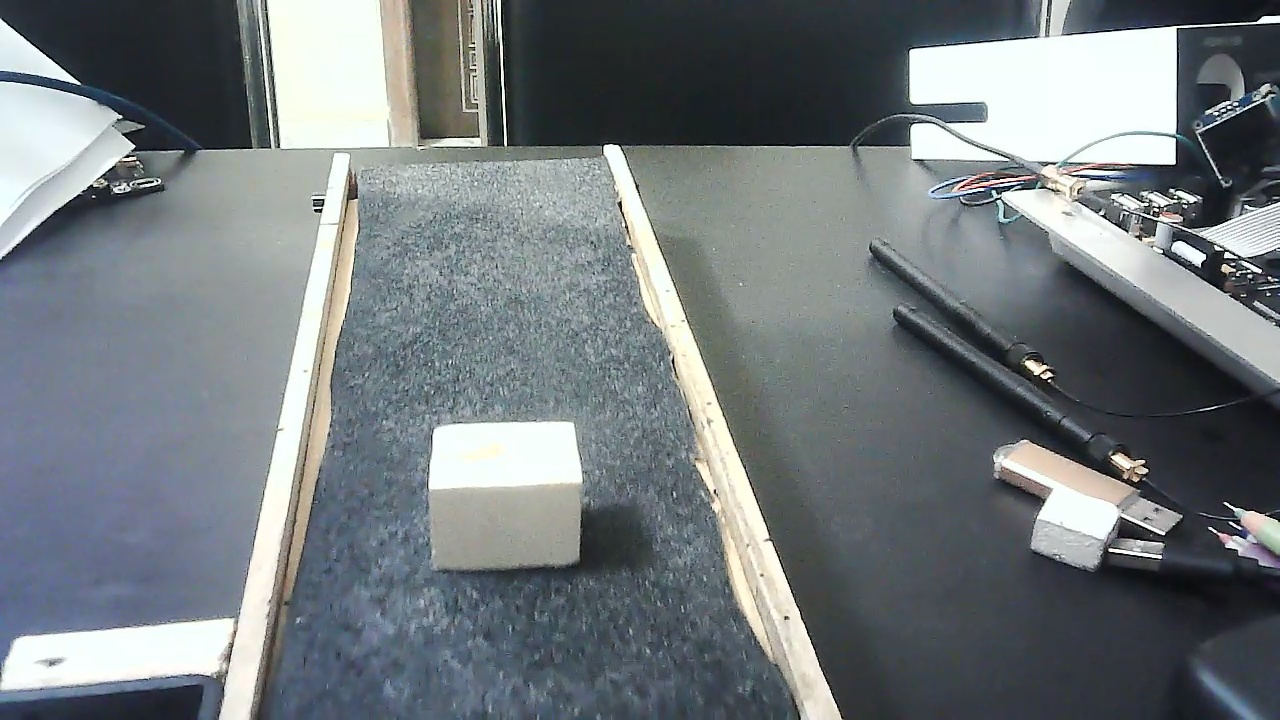Medium: (430, 419, 583, 572)
